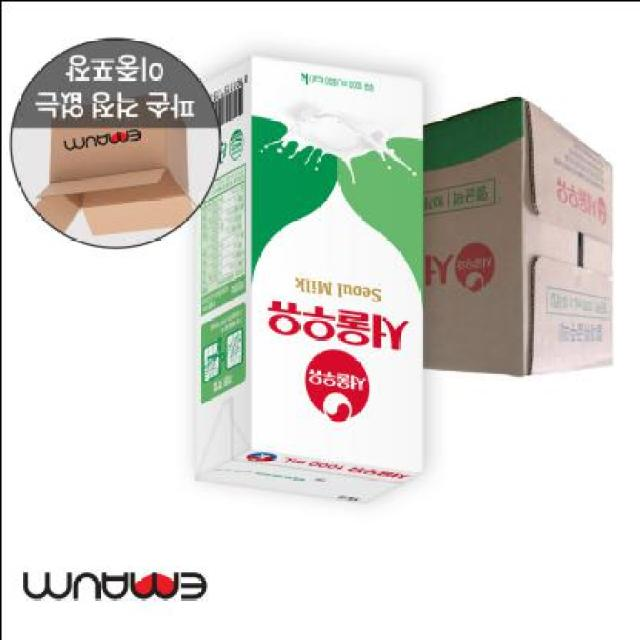tetra: (167, 51, 436, 540)
